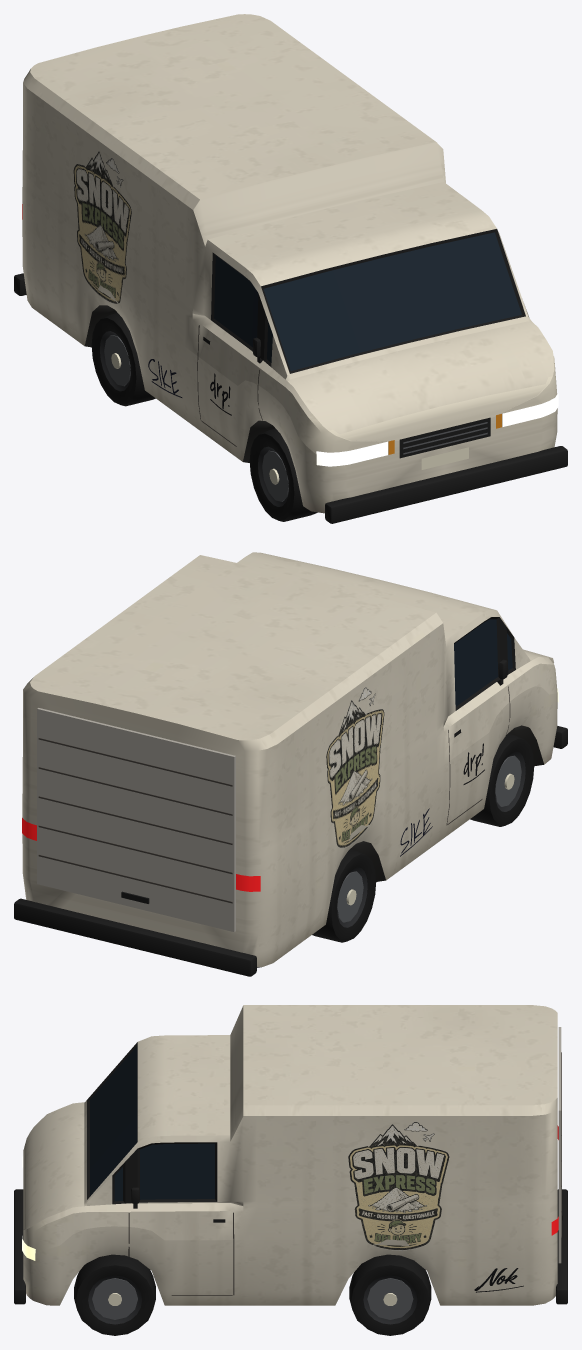
Rendered from delivery.glb.
3 views of the same model, one above another, from view 1: azimuth 30°, elevation 25°; view 2: azimuth 150°, elevation 25°; view 3: azimuth 270°, elevation 25° (orthographic). The views are drawn at different scales.
Parts seen in each view (by area): view 1: body, wheel-front-right, wheel-back-right, wheel-back-right.1, wheel-front-right.1; view 2: body, door, wheel-back-right, wheel-front-right, wheel-back-right.1, wheel-front-right.1; view 3: body, wheel-back-left, wheel-front-left, wheel-front-left.1, wheel-back-left.1, door.
Part boxes in pixels (bbox=[...]): body: bbox=[14, 14, 567, 523]; wheel-front-right: bbox=[249, 428, 317, 521]; wheel-back-right: bbox=[91, 313, 155, 406]; wheel-back-right.1: bbox=[100, 331, 130, 391]; wheel-front-right.1: bbox=[258, 446, 288, 506]; body: bbox=[14, 552, 567, 976]; door: bbox=[37, 708, 235, 932]; wheel-back-right: bbox=[312, 849, 376, 942]; wheel-front-right: bbox=[470, 733, 534, 826]; wheel-back-right.1: bbox=[337, 867, 367, 927]; wheel-front-right.1: bbox=[495, 751, 525, 811]; body: bbox=[14, 1005, 567, 1305]; wheel-back-left: bbox=[349, 1254, 431, 1335]; wheel-front-left: bbox=[74, 1254, 155, 1335]; wheel-front-left.1: bbox=[88, 1275, 141, 1324]; wheel-back-left.1: bbox=[363, 1275, 417, 1324]; door: bbox=[558, 1027, 562, 1263].
Bounding box in the file's own units: 1.5 × 1.51 × 3.26.
17 materials, 5 textured.
